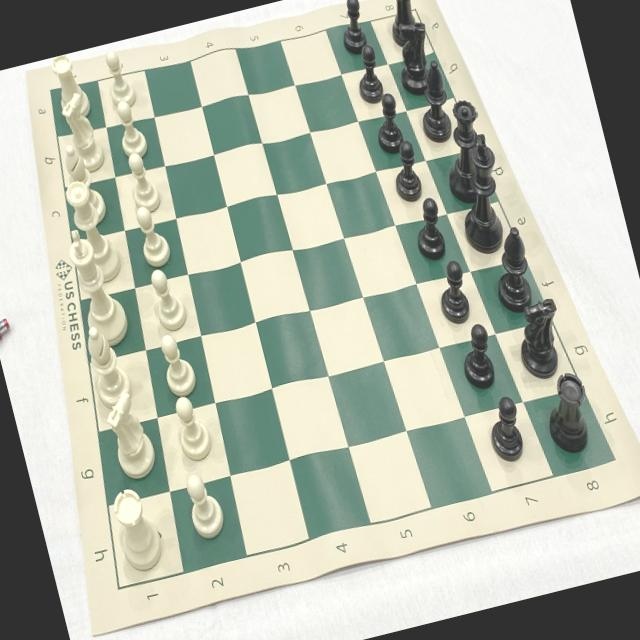black-bishop: (484, 221, 542, 313), (408, 59, 460, 144)
black-king: (443, 132, 518, 256)
black-knight: (508, 294, 572, 379), (389, 15, 442, 96)
black-pawn: (481, 393, 530, 468), (454, 320, 501, 394), (428, 257, 476, 329), (406, 194, 450, 262), (368, 90, 408, 155), (386, 139, 426, 204), (350, 42, 388, 106), (333, 0, 372, 58)
black-queen: (431, 96, 498, 205)
black-rook: (537, 368, 601, 458), (380, 0, 426, 48)
white-bishop: (82, 321, 135, 409), (59, 138, 110, 228)
white-king: (63, 220, 134, 350)
white-knight: (100, 388, 160, 482), (56, 90, 108, 175)
white-pawn: (175, 466, 230, 544), (169, 391, 215, 462), (146, 264, 189, 332), (132, 202, 174, 270), (156, 332, 199, 398), (110, 96, 152, 162), (122, 149, 162, 214), (100, 46, 139, 112)
white-queen: (62, 175, 124, 286)
white-rook: (105, 482, 167, 576), (48, 51, 94, 123)
